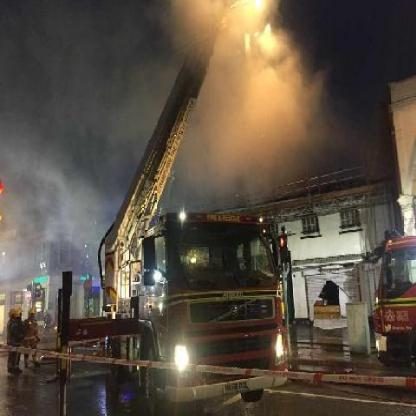smoke: (208, 56, 317, 167)
